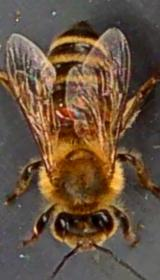varroa_mite: (45, 97, 77, 135)
